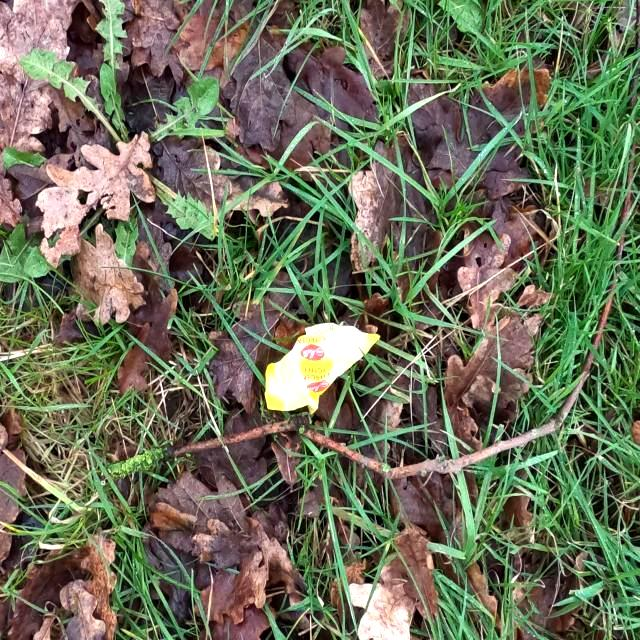Plastic: (263, 321, 379, 417)
